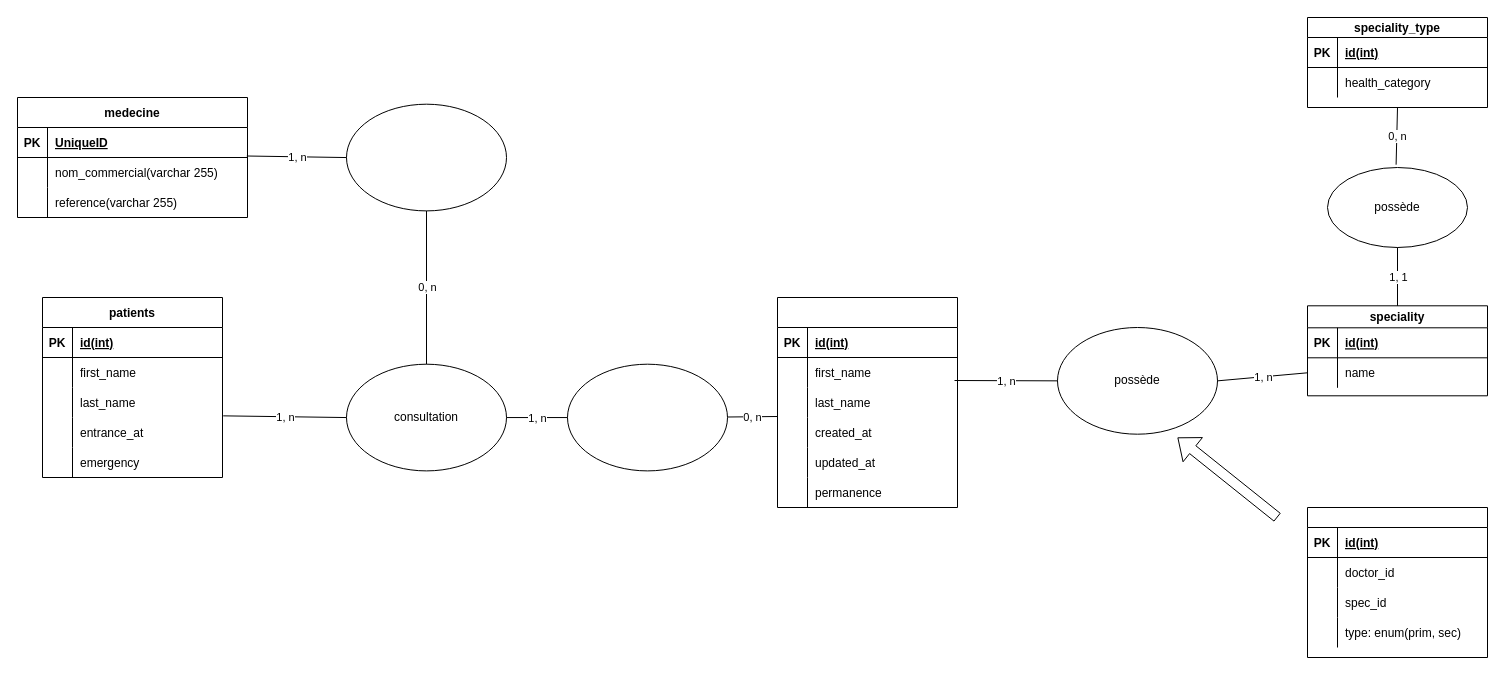
Some shapes in this 1505 by 675 pixel diagram are drawn without their labels. The shapes that lost their labels are listed below. From the top down, each one's box as (x1, y1, x2, y2) in pixels, then its label:
(346, 103, 506, 211): posologie
(566, 363, 728, 471): consultation_has_doctor
(776, 296, 958, 508): doctors
(1306, 506, 1488, 658): doctor_has_spec
